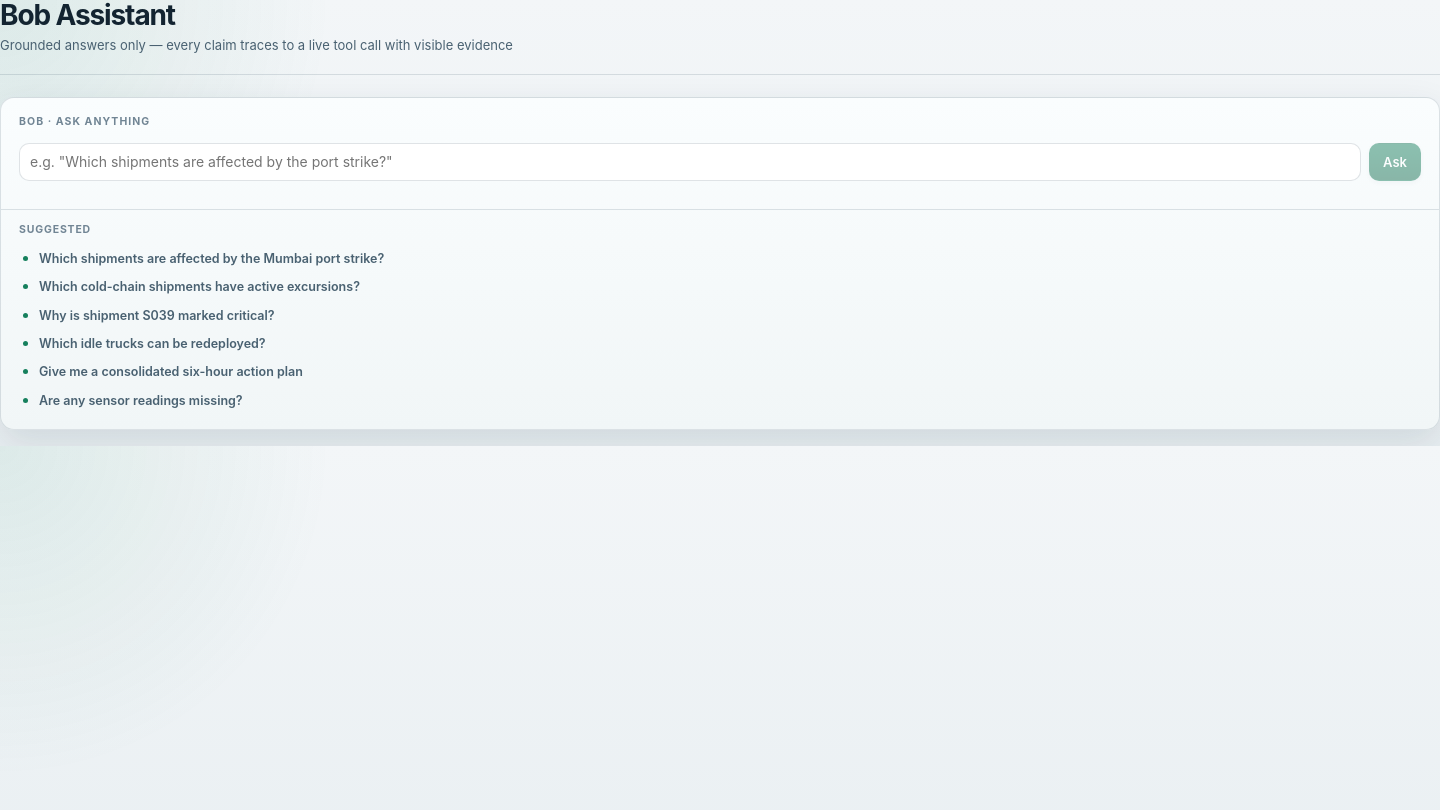
Test: Bob chat LLM status › does not show an AI badge for the unchanged deterministic contract
In the field with placeholder "e.g. \"Which shipments are affected by the port strike?\"": (690, 162) x1=19 y1=143 x2=1361 y2=181, type "Which disruptions are active?"
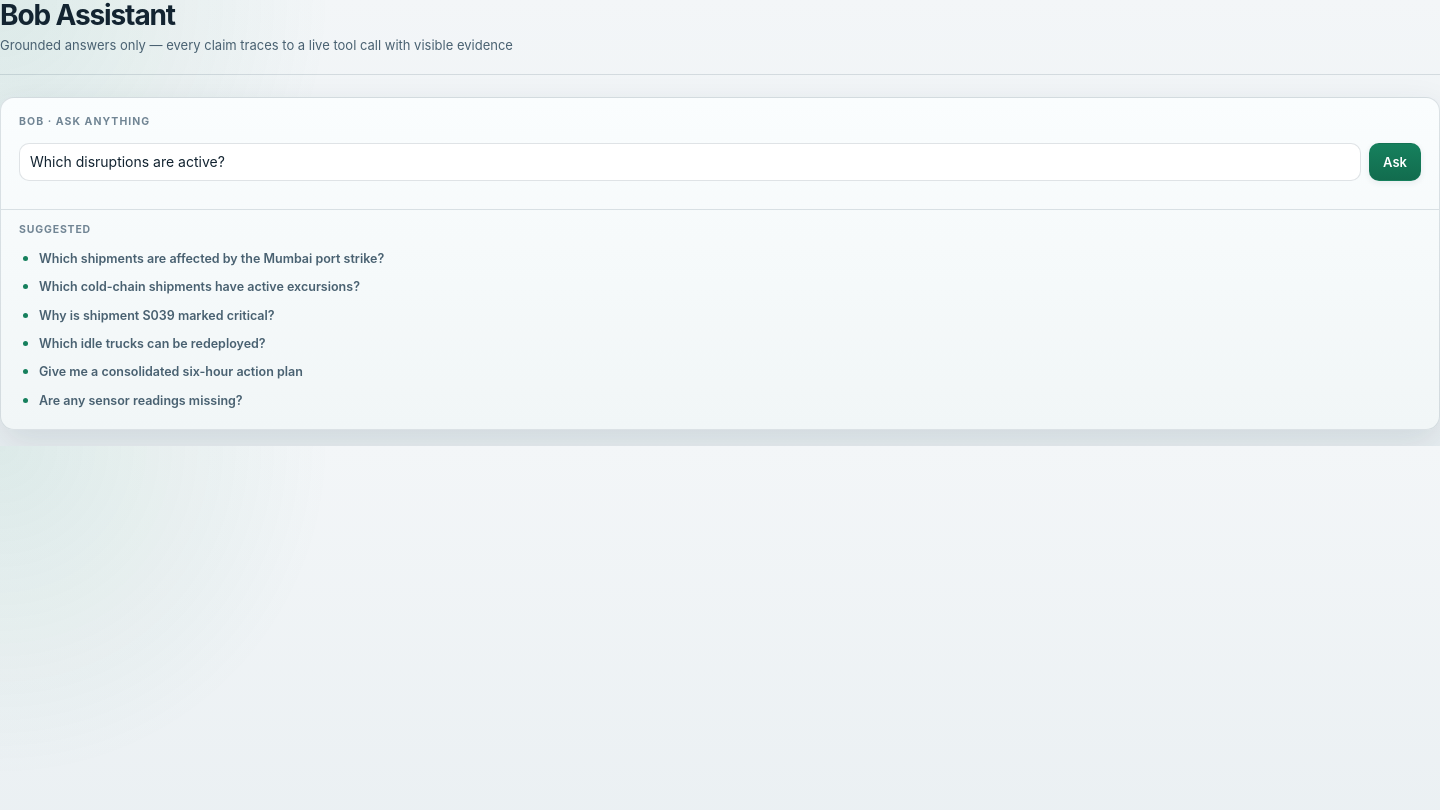
Click the button "Ask": (1395, 162) x1=1369 y1=143 x2=1421 y2=181
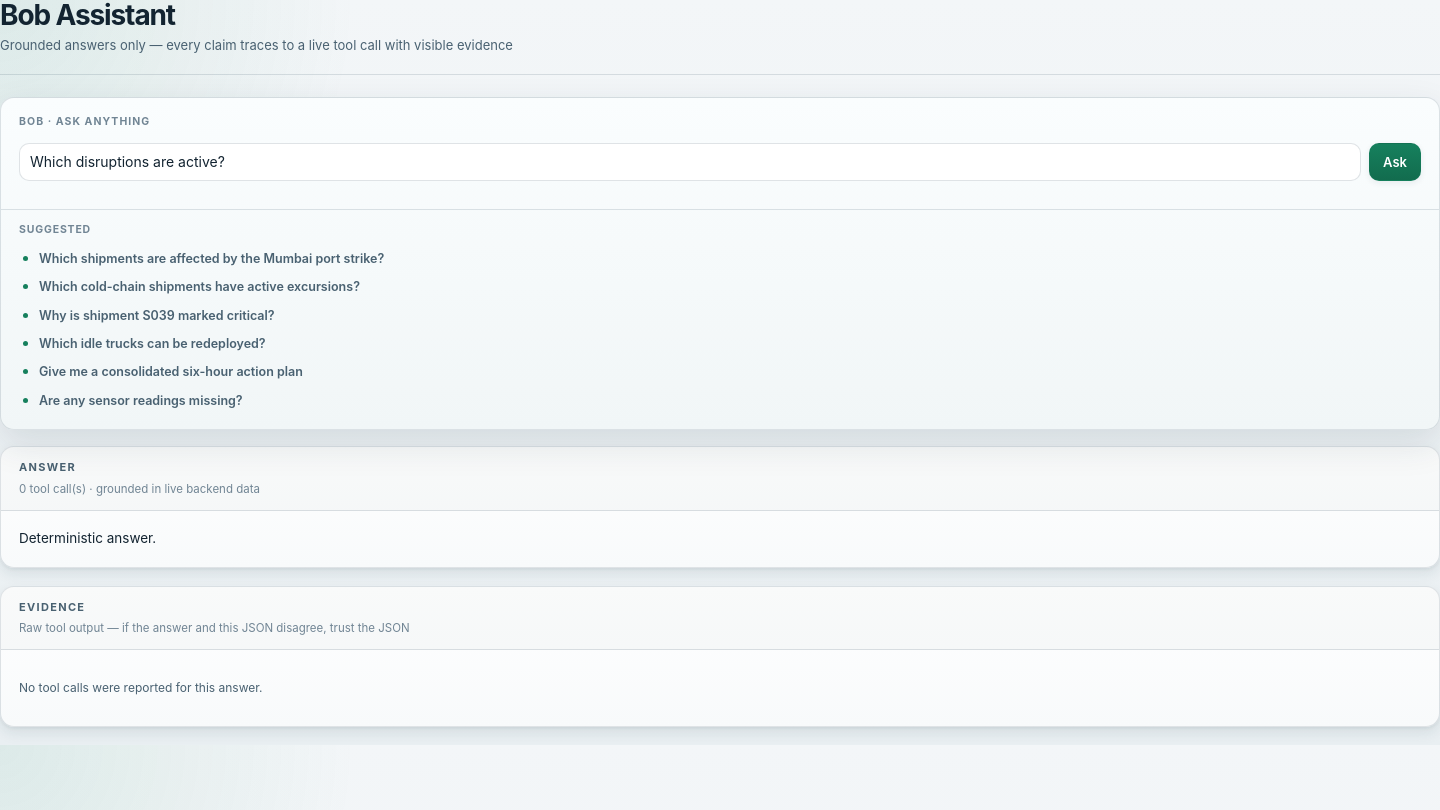
Result: the text "Deterministic answer." is shown at x1=19 y1=530 x2=156 y2=546
